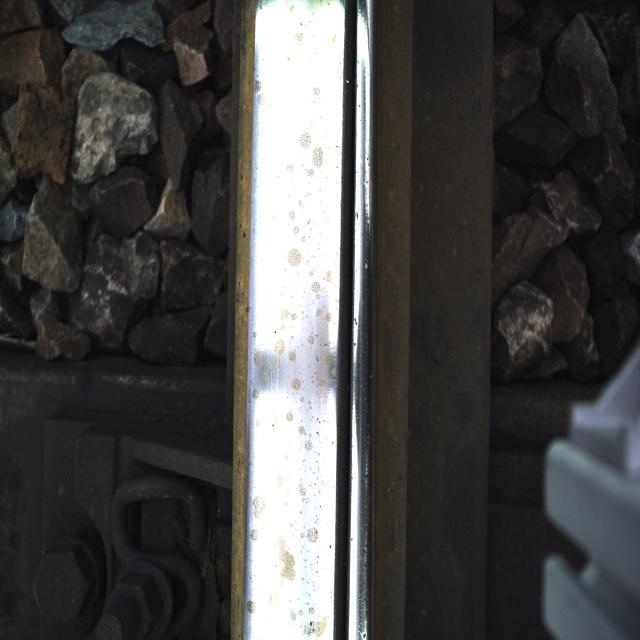scar: (256, 51, 332, 625)
